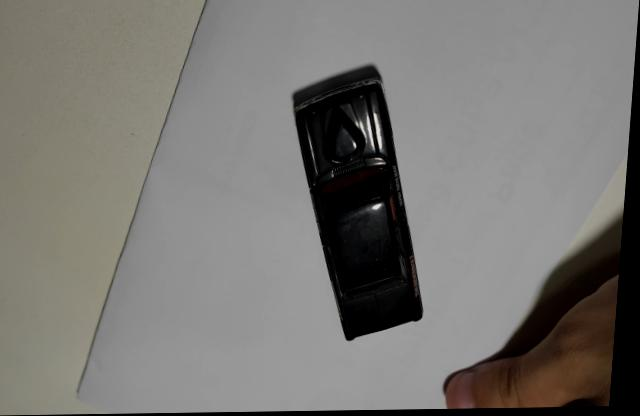01_FORD: (293, 79, 430, 340)
